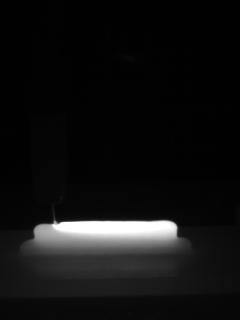tip_wire_left: (36, 199, 56, 224)
tip_wire_right: (54, 199, 66, 224)
